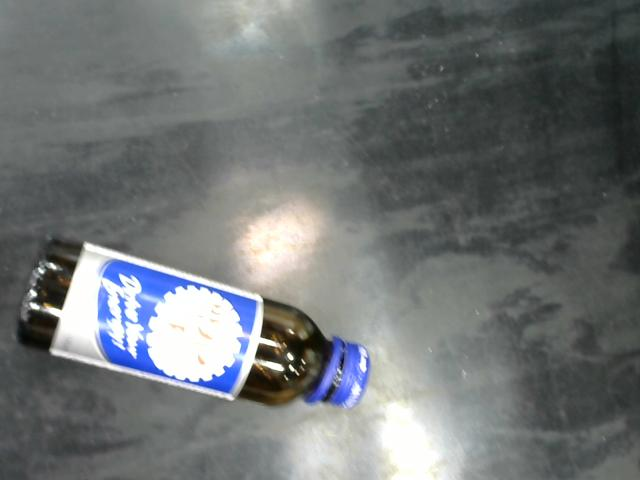glass: (12, 236, 374, 413)
